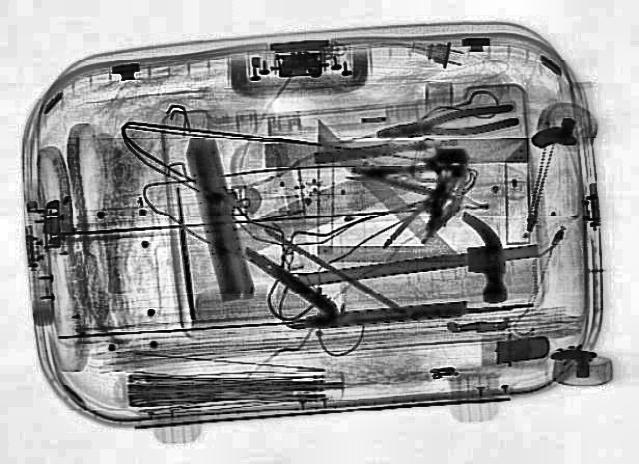Pliers: (369, 100, 520, 146)
